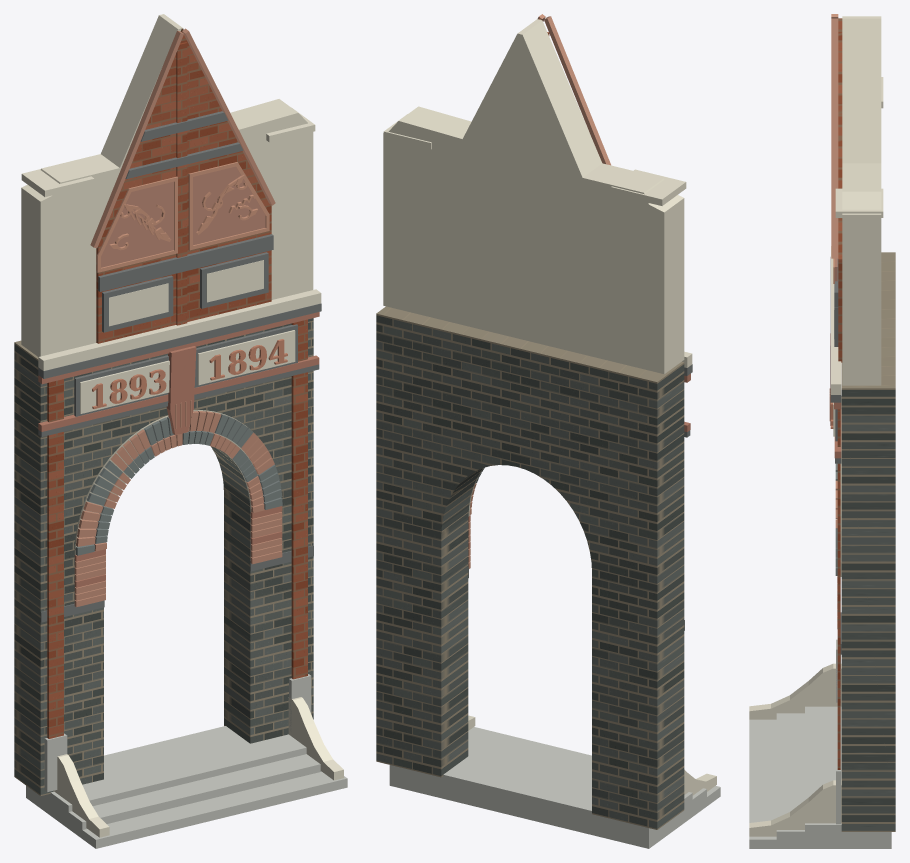
File: hongkou-western-girls-school-dated-brick-portal-lod.glb
The picture shows the model from 3 angles, left to right: view 1: azimuth 30°, elevation 25°; view 2: azimuth 150°, elevation 25°; view 3: azimuth 270°, elevation 25°; orthographic projection. The views are drawn at different scales.
Visible parts, largest first — view 1: 工部局西童女子学校双年份砖券门; view 2: 工部局西童女子学校双年份砖券门; view 3: 工部局西童女子学校双年份砖券门.
Part boxes in pixels (box(x1,y1,x2,y2)): 工部局西童女子学校双年份砖券门: box(14, 14, 347, 848); 工部局西童女子学校双年份砖券门: box(376, 14, 720, 848); 工部局西童女子学校双年份砖券门: box(749, 14, 895, 848).
Bounding box in the file's own units: 3.47 × 9.03 × 1.55.
Materials: 12 (2 with a texture image).
